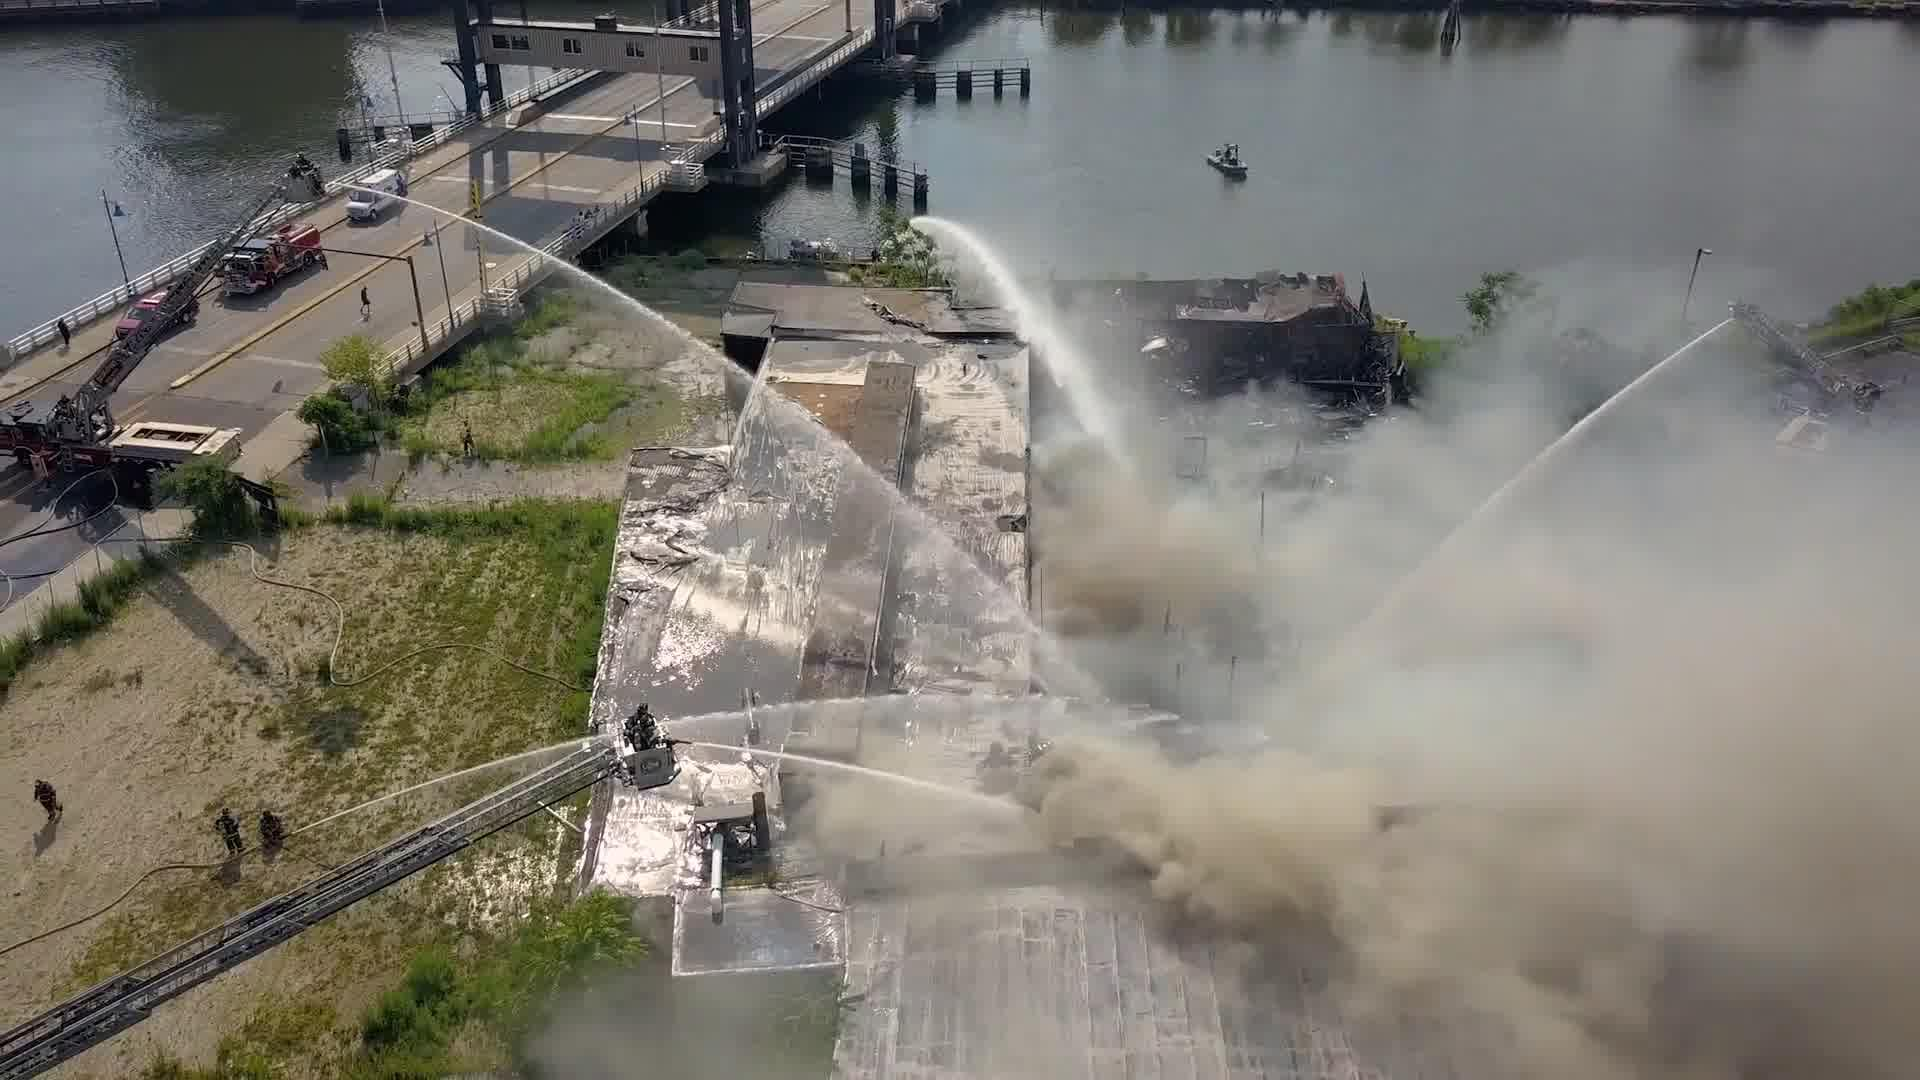smoke: (1026, 272, 1920, 1079), (796, 721, 1025, 884)
